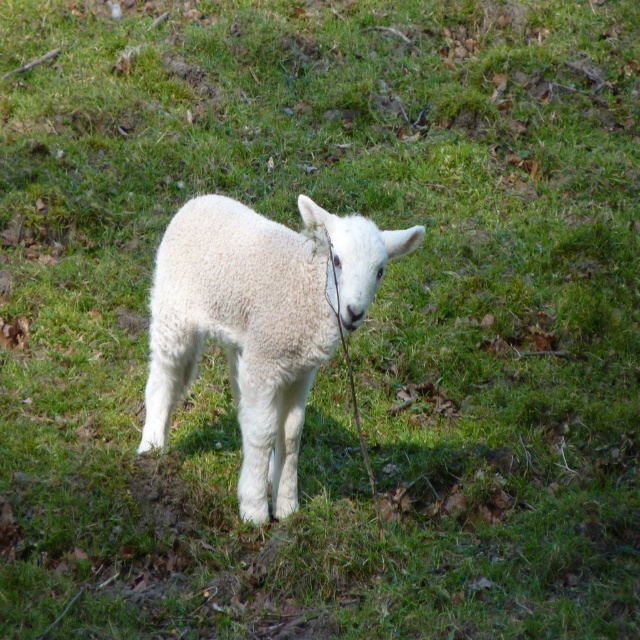Sheep: (136, 192, 425, 529)
